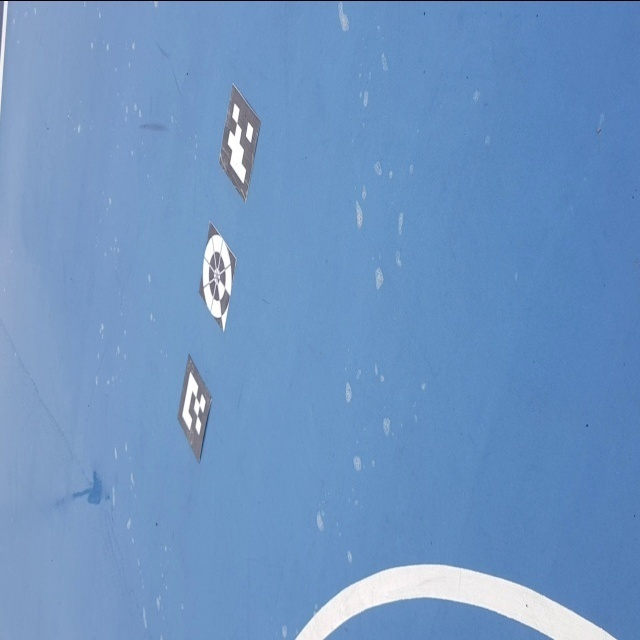landing-zone: (195, 222, 240, 333)
